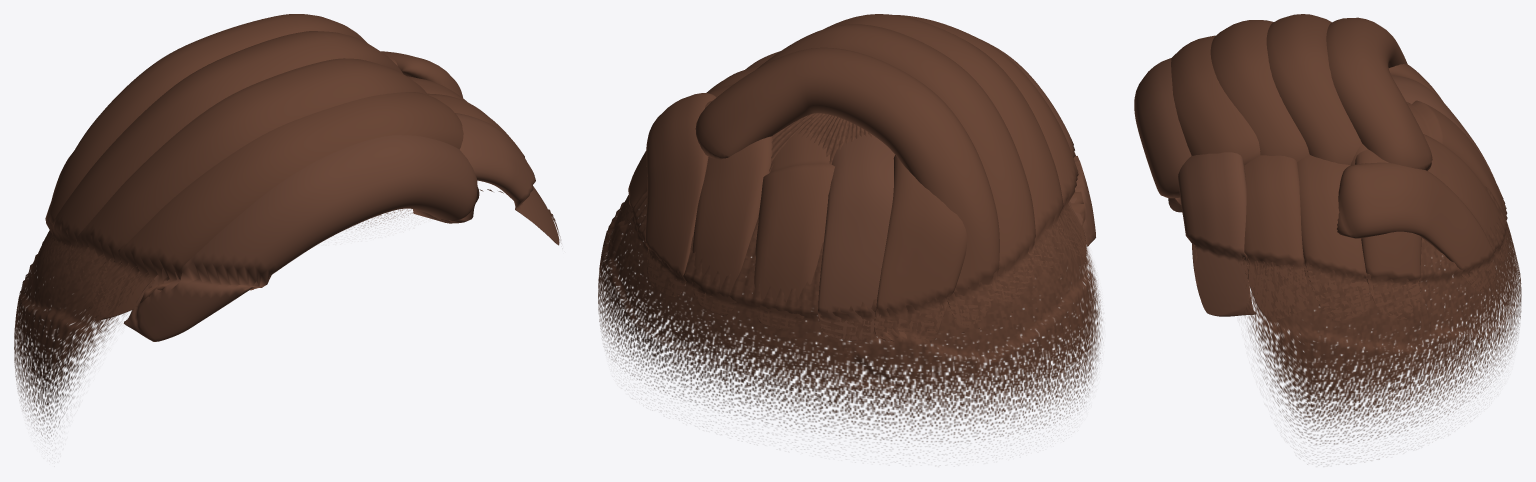
The model's file is Masculine-taper-headband256-hair.glb.
3 renders of one model, left to right at view 1: azimuth 30°, elevation 25°; view 2: azimuth 150°, elevation 25°; view 3: azimuth 270°, elevation 25°, orthographic. The views are drawn at different scales.
Parts seen in each view (by area): view 1: 226 hair / Hair252 / sculpted locks, 226 hair / Hair252 / gentle tonal variation, 226 hair / Hair256 / selected B sides; view 2: 226 hair / Hair252 / sculpted locks, 226 hair / Hair256 / selected B sides, 226 hair / Hair252 / gentle tonal variation; view 3: 226 hair / Hair252 / sculpted locks, 226 hair / Hair256 / selected B sides, 226 hair / Hair252 / gentle tonal variation.
Boxes of the visible parts, x1=… form: 226 hair / Hair252 / sculpted locks: x1=38, y1=14, x2=546, y2=319; 226 hair / Hair252 / gentle tonal variation: x1=123, y1=113, x2=559, y2=341; 226 hair / Hair256 / selected B sides: x1=14, y1=187, x2=561, y2=438; 226 hair / Hair252 / sculpted locks: x1=618, y1=14, x2=1086, y2=342; 226 hair / Hair256 / selected B sides: x1=598, y1=113, x2=1102, y2=448; 226 hair / Hair252 / gentle tonal variation: x1=745, y1=40, x2=1095, y2=340; 226 hair / Hair252 / sculpted locks: x1=1171, y1=14, x2=1508, y2=322; 226 hair / Hair256 / selected B sides: x1=1238, y1=102, x2=1521, y2=464; 226 hair / Hair252 / gentle tonal variation: x1=1134, y1=58, x2=1495, y2=316.
Size of the model in its own units: 0.972 by 0.6944 by 0.7438.
Materials: 3 (1 with a texture image).
